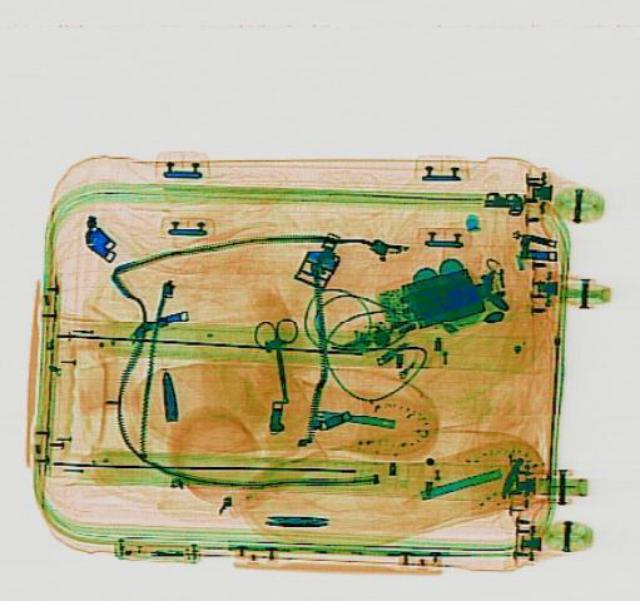Scissors: (250, 316, 306, 403)
